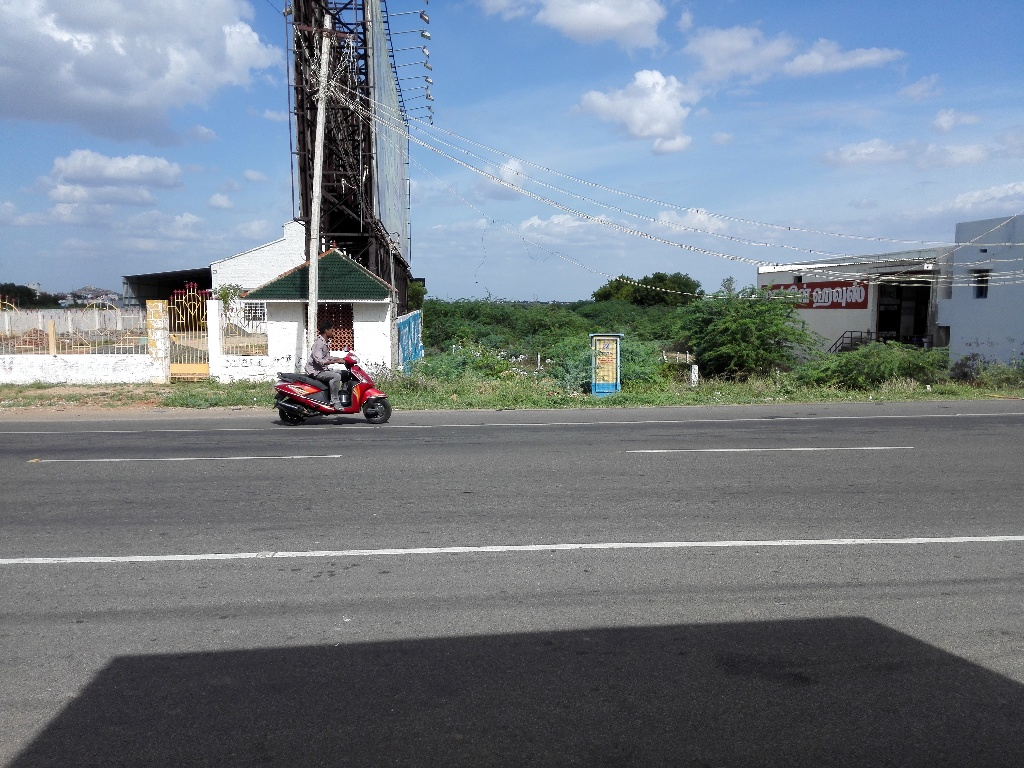biker: (254, 291, 413, 435)
nohelmet: (316, 317, 340, 350)
